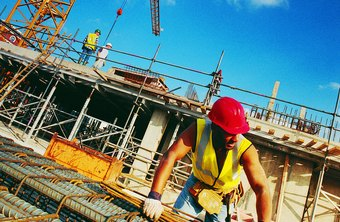hard hat: (209, 96, 250, 132), (95, 29, 101, 34), (106, 42, 112, 46)
high-vis: (193, 118, 250, 190), (84, 32, 96, 49)
